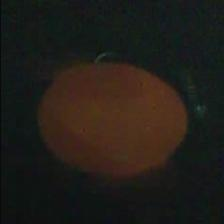fertile: (34, 58, 188, 182)
